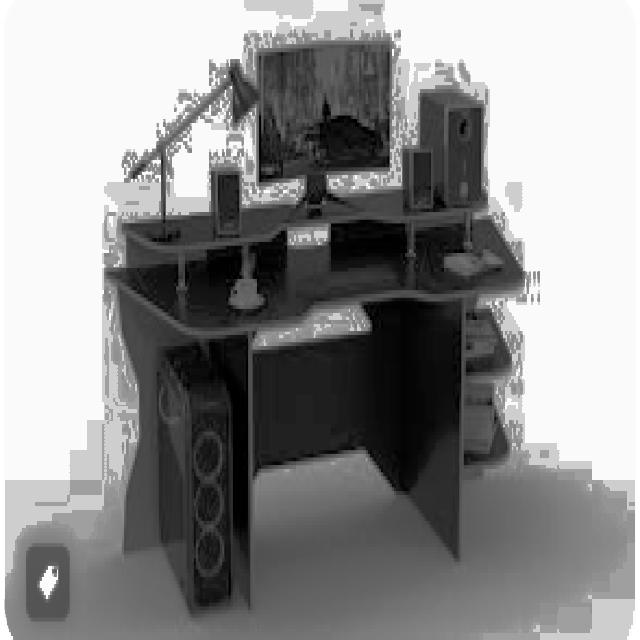table: (105, 190, 522, 610)
